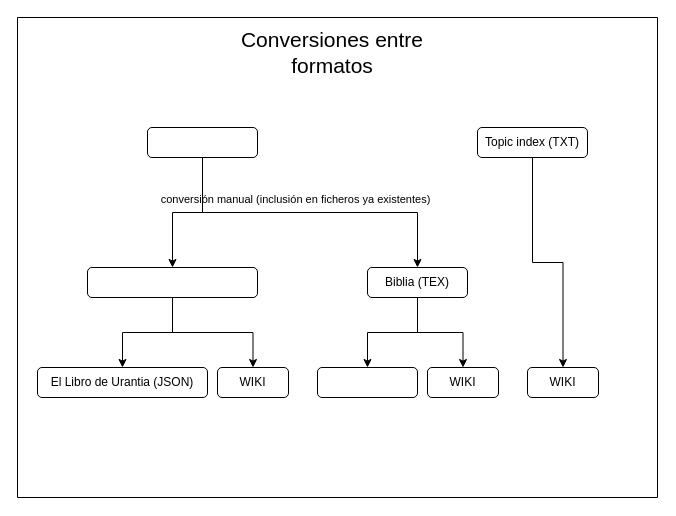
Image size: 676x516. Some labels were removed from this diagram. The centre of each missing label's shape, as x and y in pixels:
"Biblia (JSON)" goes at [367,382].
"El Libro de Urantia (TEX)" goes at [172,282].
"Paramony (TXT)" goes at [202,142].
